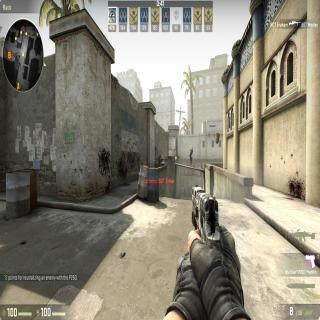CT-Body: (158, 154, 162, 168)
CT-Head: (159, 154, 161, 158)
T-Body: (190, 148, 192, 164)
T-Head: (190, 149, 192, 152)
